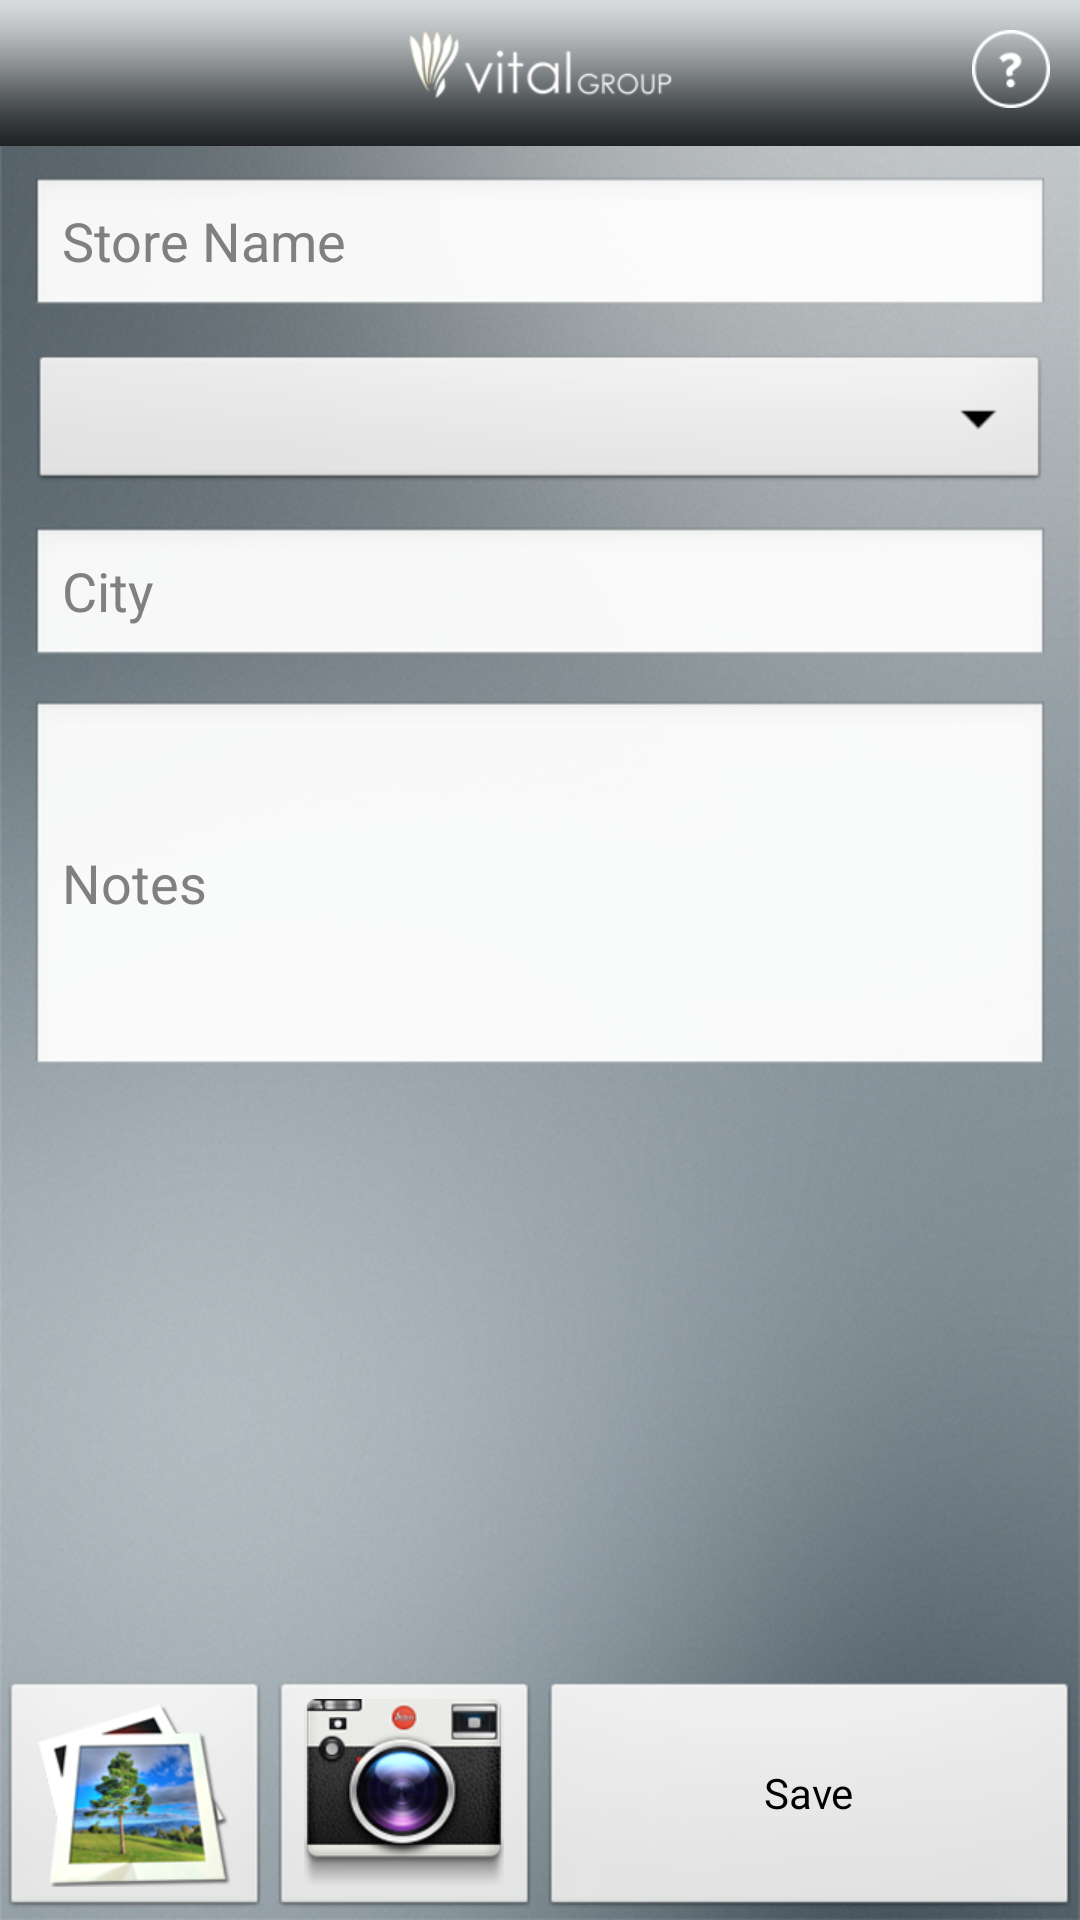

Point at icon controls on the screen. Image size 1080x1920, points as [x,y].
gallery: [134,1795]
help: [1011,69]
